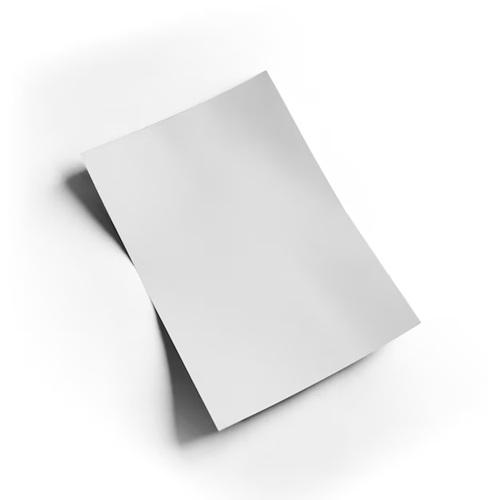plastic: (79, 53, 422, 431)
